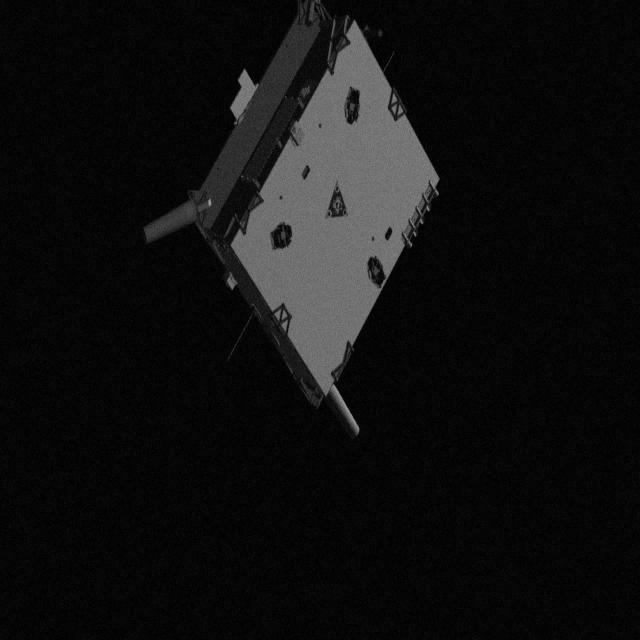medium_debris: (142, 0, 450, 436)
